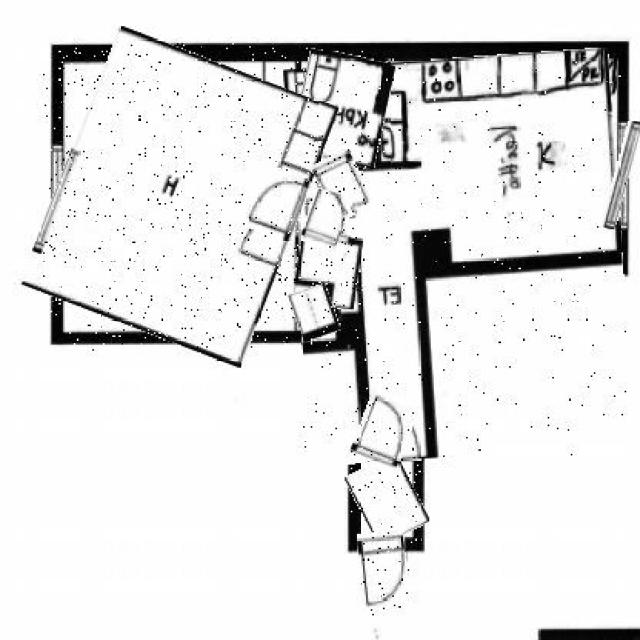door: (354, 390, 415, 472), (245, 166, 306, 239), (360, 532, 409, 616), (317, 152, 368, 218), (304, 191, 348, 249)
window: (608, 120, 635, 231), (43, 148, 71, 255)
zone: (290, 54, 628, 460), (43, 43, 319, 351), (295, 52, 391, 166), (352, 457, 423, 543), (294, 232, 361, 308), (292, 286, 337, 340)
